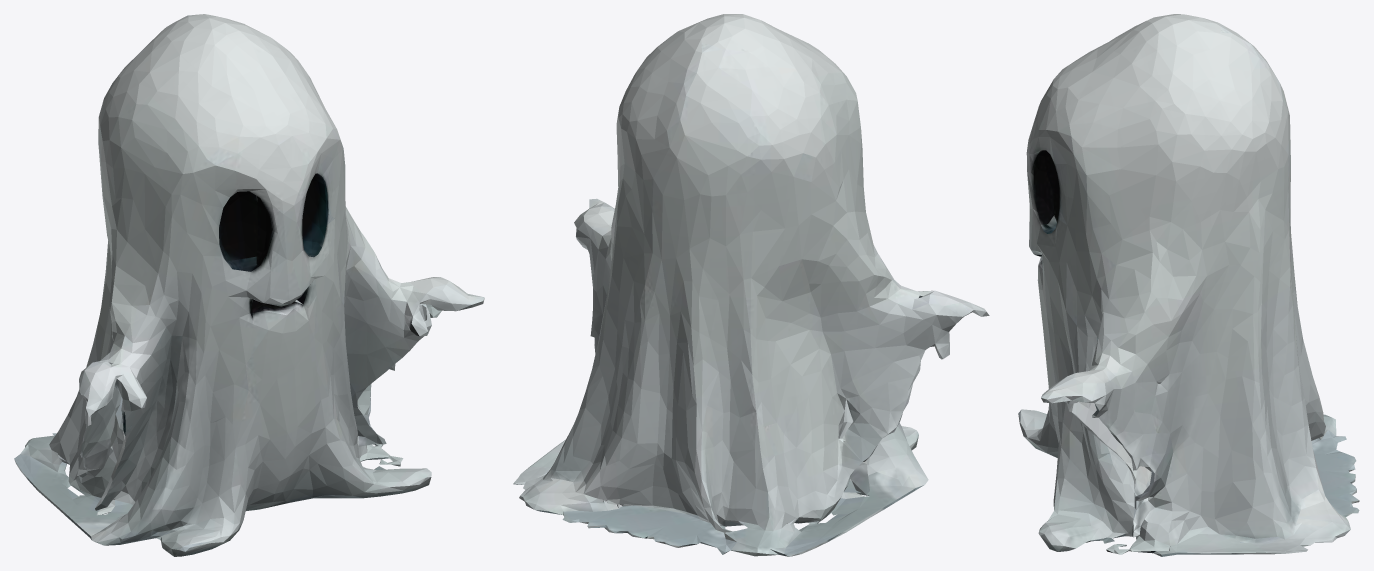
The model's file is ghost.glb.
The picture shows the model from 3 angles, left to right: view 1: azimuth 30°, elevation 25°; view 2: azimuth 150°, elevation 25°; view 3: azimuth 270°, elevation 25°; orthographic projection.
Parts seen in each view (by area): view 1: Ghost; view 2: Ghost; view 3: Ghost.
Part boxes in pixels (bbox=[...]): Ghost: bbox=[14, 14, 484, 556]; Ghost: bbox=[513, 14, 989, 556]; Ghost: bbox=[1018, 14, 1359, 556].
Bounding box in the file's own units: 0.8667 × 0.95 × 0.6409.
1 material, 1 textured.
